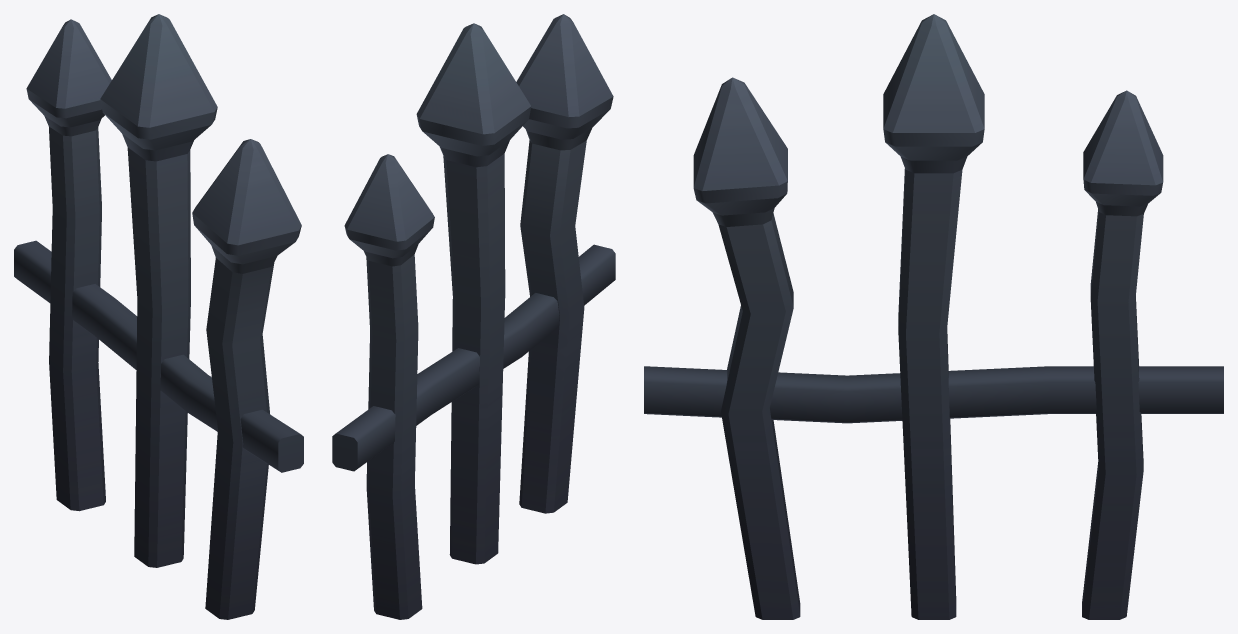
The model's file is Fence_4_2.glb.
The picture shows the model from 3 angles, left to right: view 1: azimuth 30°, elevation 25°; view 2: azimuth 150°, elevation 25°; view 3: azimuth 270°, elevation 25°; orthographic projection. The views are drawn at different scales.
Parts seen in each view (by area): view 1: Fence_4_2; view 2: Fence_4_2; view 3: Fence_4_2.
Part boxes in pixels (x1,y1,x2,y2): Fence_4_2: (14, 14, 303, 619); Fence_4_2: (332, 14, 615, 619); Fence_4_2: (644, 14, 1223, 619).
Size of the model in its own units: 0.1703 by 1.11 by 0.9745.
1 material, 1 textured.
